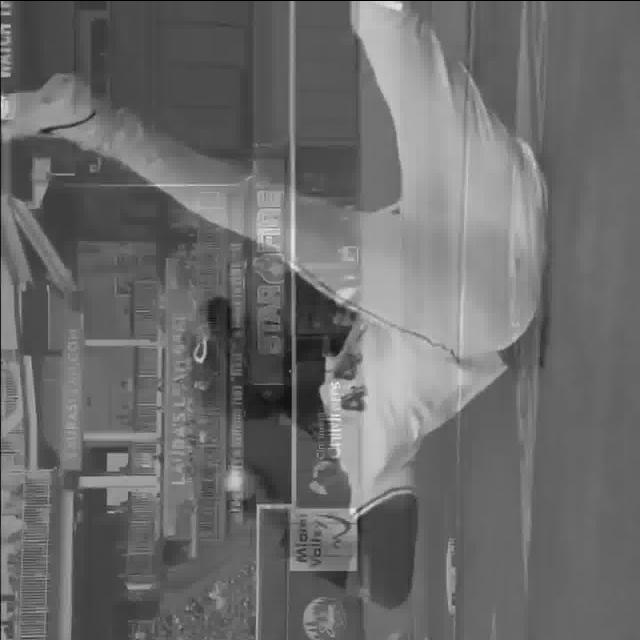baseball: (227, 465, 253, 492)
baseball_glove: (278, 267, 355, 357)
shoe: (2, 67, 98, 143)
